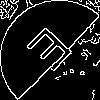E: (25, 25, 82, 80)
